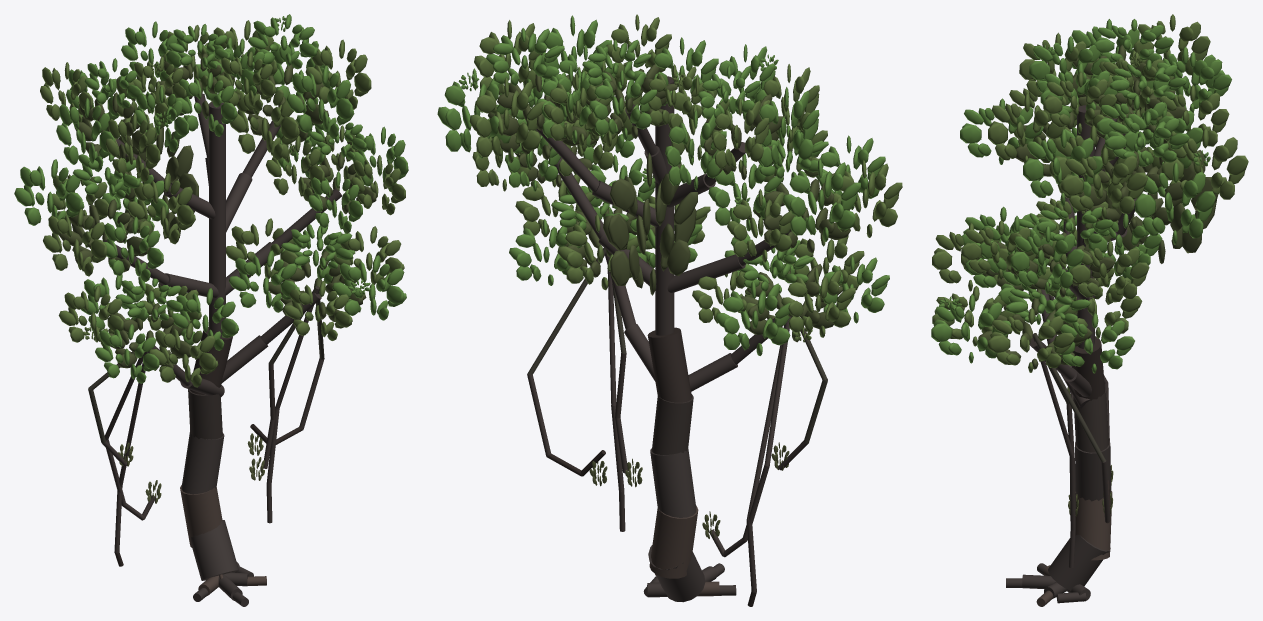
The model's file is CMU3DBroadleafTreeLarge05.glb.
3 views of the same model, side by side, from view 1: azimuth 30°, elevation 25°; view 2: azimuth 150°, elevation 25°; view 3: azimuth 270°, elevation 25° (orthographic). The views are drawn at different scales.
Parts seen in each view (by area): view 1: irregular rounded leaf cluster (×40), off-center crown cluster (×7), rounded leaf core (×7), inferred hidden trunk continuation, source curved trunk 3, source curved trunk 1, shaded inner crown, source curved trunk 2, source curved trunk 4, source curved trunk 5, inferred crown branch 6.1, inferred crown branch 2.1 (+5 smaller); view 2: irregular rounded leaf cluster (×36), rounded leaf core (×7), off-center crown cluster (×6), shaded inner crown, source curved trunk 2, source curved trunk 3, source curved trunk 5, inferred hidden trunk continuation, source curved trunk 4, source curved trunk 1, inferred crown branch 5.1, inferred crown branch 2.2 (+7 smaller); view 3: irregular rounded leaf cluster (×35), off-center crown cluster (×5), rounded leaf core (×6), shaded inner crown, source curved trunk 1, source curved trunk 2, source curved trunk 3, source curved trunk 4, source curved trunk 5, inferred hidden trunk continuation, inferred hanging attachment 1, inferred hanging attachment 4.
Part boxes in pixels (bbox=[...]): irregular rounded leaf cluster (×40): bbox=[14, 20, 408, 387]; off-center crown cluster (×7): bbox=[73, 14, 366, 320]; rounded leaf core (×7): bbox=[59, 53, 376, 370]; inferred hidden trunk continuation: bbox=[209, 102, 225, 336]; source curved trunk 3: bbox=[181, 431, 224, 494]; source curved trunk 1: bbox=[191, 520, 238, 580]; shaded inner crown: bbox=[114, 127, 198, 242]; source curved trunk 2: bbox=[180, 485, 222, 547]; source curved trunk 4: bbox=[188, 389, 222, 439]; source curved trunk 5: bbox=[190, 327, 232, 394]; inferred crown branch 6.1: bbox=[221, 335, 268, 383]; inferred crown branch 2.1: bbox=[226, 173, 252, 232]; irregular rounded leaf cluster (×36): bbox=[437, 14, 902, 355]; rounded leaf core (×7): bbox=[488, 61, 857, 342]; off-center crown cluster (×6): bbox=[486, 28, 828, 293]; shaded inner crown: bbox=[603, 152, 697, 295]; source curved trunk 2: bbox=[649, 505, 698, 578]; source curved trunk 3: bbox=[650, 448, 696, 517]; source curved trunk 5: bbox=[647, 327, 691, 402]; inferred hidden trunk continuation: bbox=[655, 76, 674, 335]; source curved trunk 4: bbox=[651, 394, 693, 454]; source curved trunk 1: bbox=[648, 545, 705, 602]; inferred crown branch 5.1: bbox=[667, 254, 745, 292]; inferred crown branch 2.2: bbox=[536, 122, 599, 192]; irregular rounded leaf cluster (×35): bbox=[931, 14, 1248, 373]; off-center crown cluster (×5): bbox=[1006, 19, 1189, 323]; rounded leaf core (×6): bbox=[978, 44, 1187, 369]; shaded inner crown: bbox=[1105, 147, 1217, 263]; source curved trunk 1: bbox=[1048, 534, 1110, 590]; source curved trunk 2: bbox=[1075, 491, 1112, 560]; source curved trunk 3: bbox=[1075, 440, 1111, 501]; source curved trunk 4: bbox=[1073, 390, 1108, 452]; source curved trunk 5: bbox=[1072, 336, 1104, 400]; inferred hidden trunk continuation: bbox=[1077, 105, 1094, 348]; inferred hanging attachment 1: bbox=[1033, 333, 1105, 462]; inferred hanging attachment 4: bbox=[1032, 334, 1074, 456].
Size of the model in its own units: 2.93 by 4.11 by 2.21.
